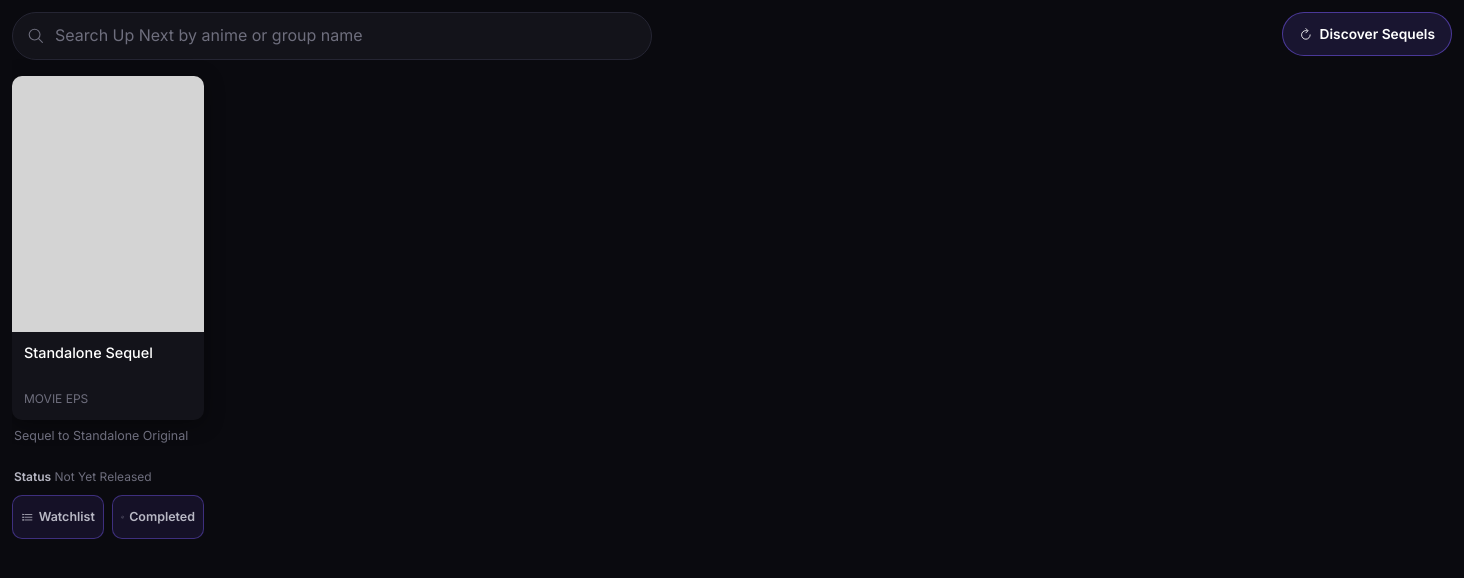
it: Up Next system Collection › marks a suggestion Completed and leaves failures visible for retry
The image size is (1464, 578).
Step 1. Click the button with aria-label "mark standalone sequel completed" → coordinates (158, 517), box [112,495,204,539]
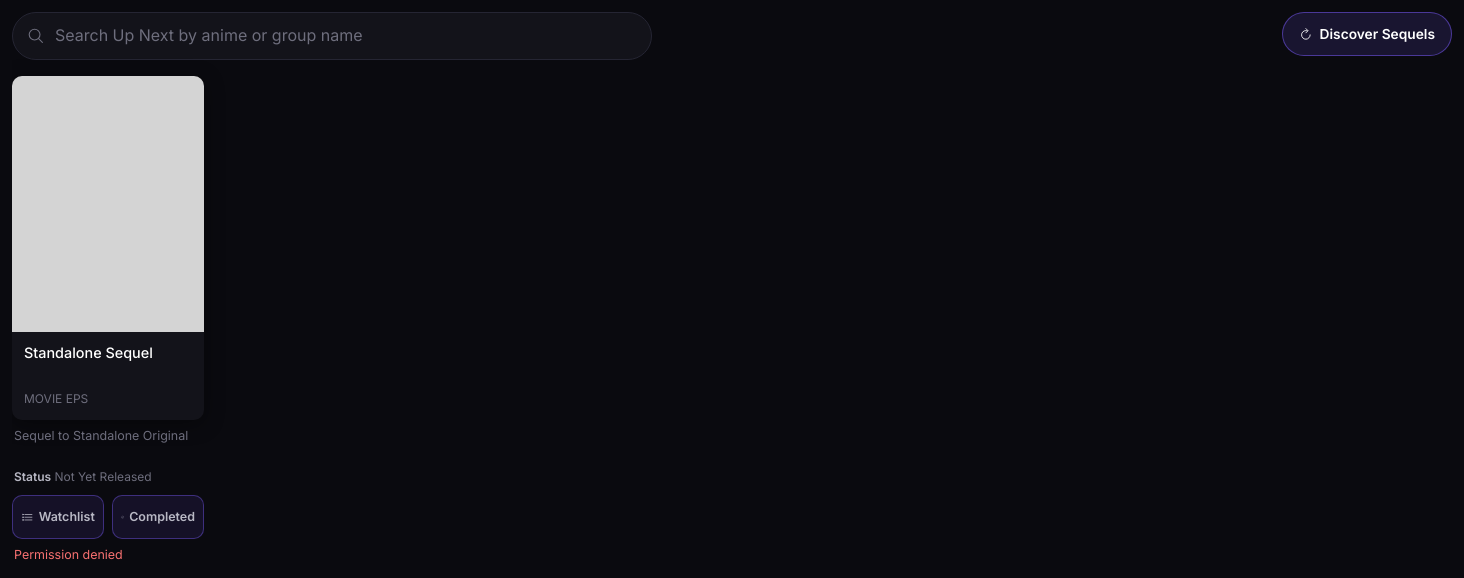
Expected: the text "Standalone Sequel" is shown, [24,344,153,361]
Now the message reads "Permission denied", box [14,547,123,562]
